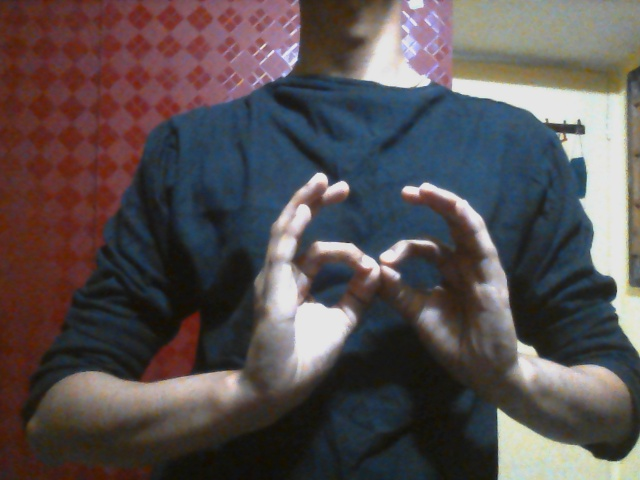B: (239, 171, 518, 414)
